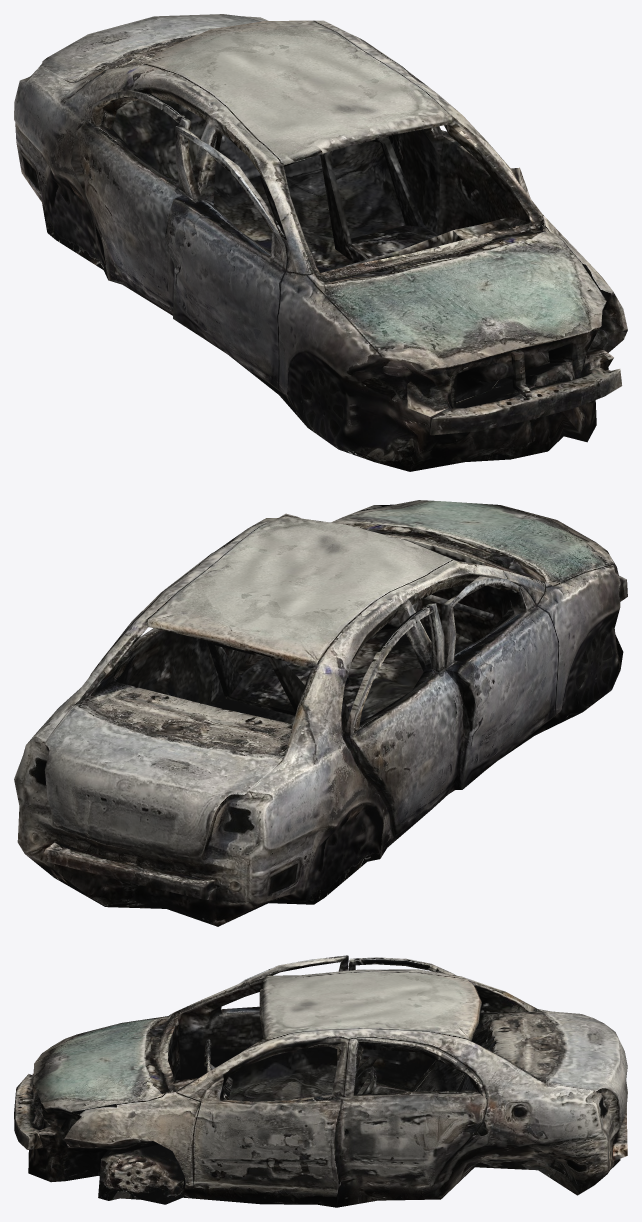
The model's file is car_burnt_b.gltf.
3 renders of one model, top to bottom at view 1: azimuth 30°, elevation 25°; view 2: azimuth 150°, elevation 25°; view 3: azimuth 270°, elevation 25°, orthographic. The views are drawn at different scales.
Visible parts, largest first — view 1: car_burnt_b; view 2: car_burnt_b; view 3: car_burnt_b.
Boxes of the visible parts, x1,y1,x2,y2 form: car_burnt_b: (14, 14, 627, 471); car_burnt_b: (14, 500, 627, 926); car_burnt_b: (14, 955, 627, 1207).
Size of the model in its own units: 1.87 by 1.23 by 4.4.
Materials: 1 (1 with a texture image).
